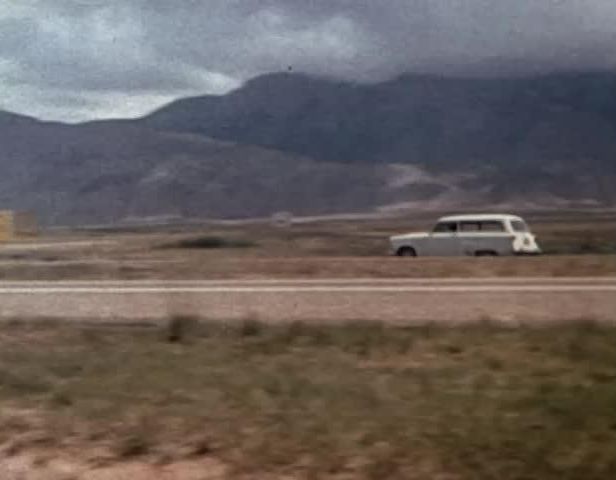car: (385, 212, 544, 261)
